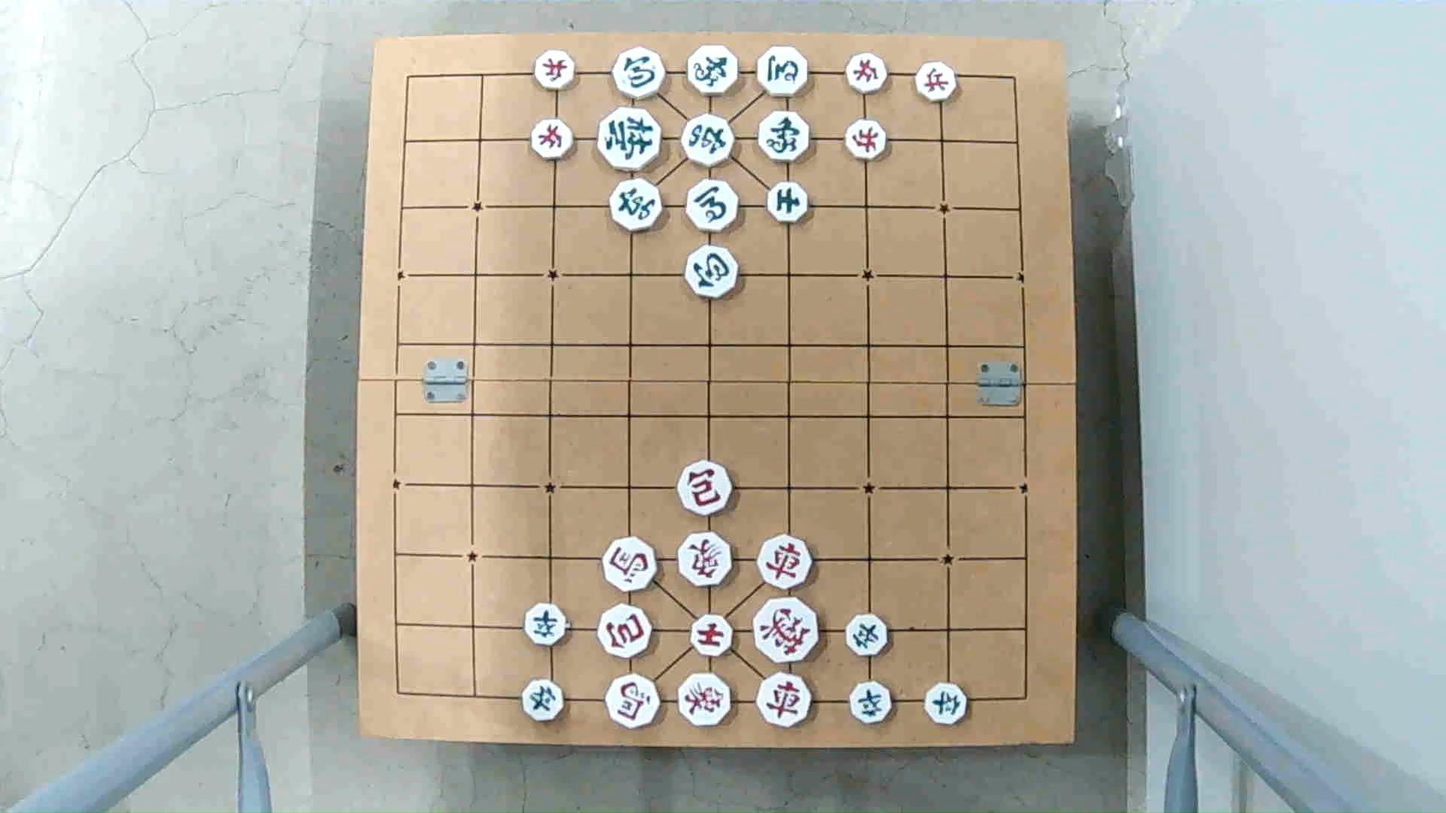cha_green: (678, 117, 736, 166), (610, 178, 660, 233)
cha_red: (756, 670, 816, 727), (756, 540, 813, 589)
jol_green: (926, 682, 971, 728), (520, 680, 566, 723), (525, 606, 570, 646), (850, 683, 895, 723), (846, 613, 886, 655)
jol_red: (532, 47, 578, 91), (912, 62, 960, 102), (529, 118, 575, 159), (844, 53, 889, 93), (846, 122, 889, 160)
ma_green: (684, 182, 740, 232), (756, 50, 813, 97)
ma_red: (603, 537, 664, 592), (606, 678, 664, 729)
po_green: (612, 47, 668, 99), (683, 248, 738, 298)
po_red: (673, 466, 732, 513), (598, 607, 652, 657)
sa_green: (767, 183, 812, 224)
sa_red: (688, 615, 736, 654)
sang_green: (753, 110, 809, 166), (688, 43, 739, 96)
sang_red: (675, 532, 733, 586), (677, 677, 736, 729)
wang_green: (593, 105, 663, 170)
wang_red: (752, 599, 822, 659)
